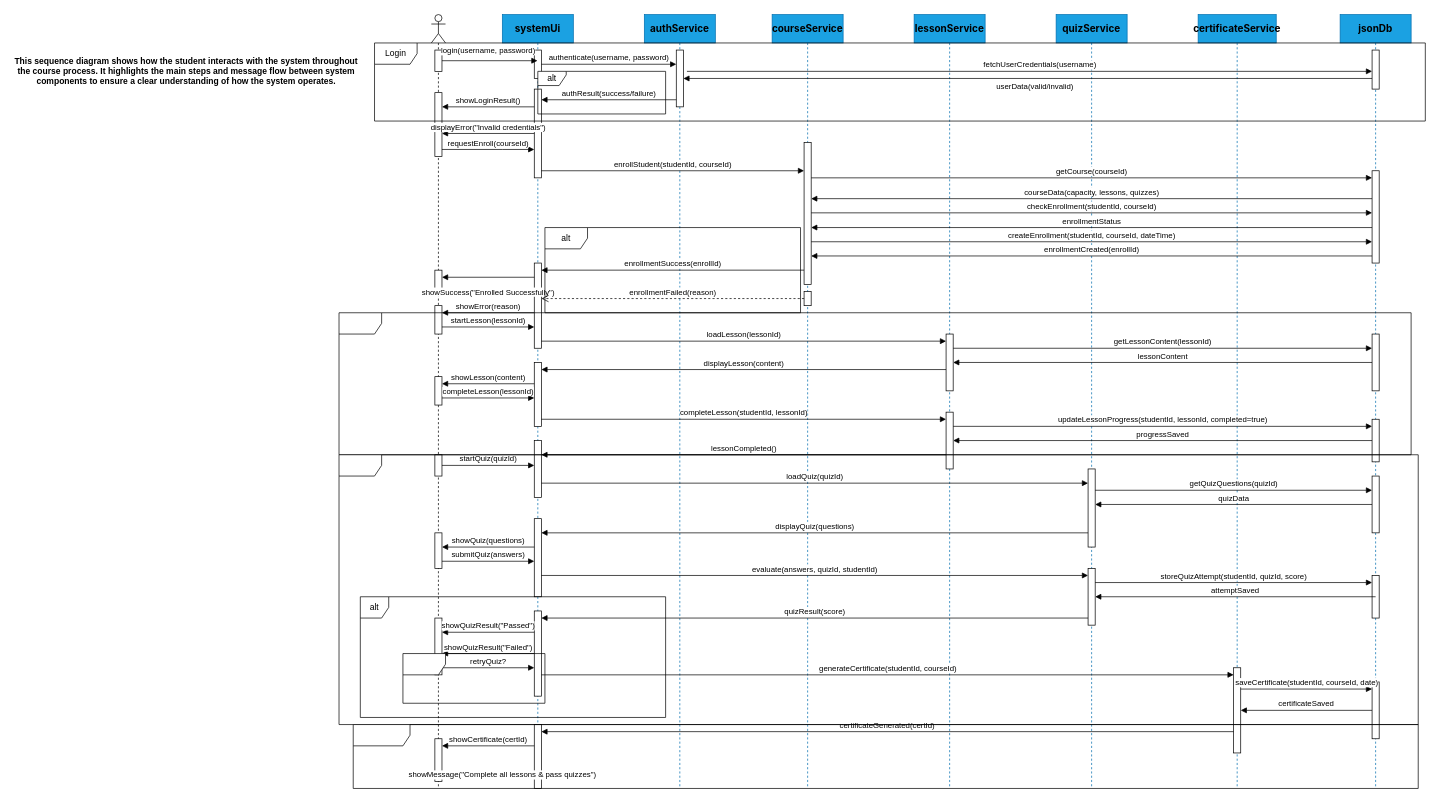
Some shapes in this 1438 by 801 pixel diagram are drawn without their labels. Here are the shapes that lost their labels. From the top down, the centre of each, then its label:
At (x=874, y=383): "Lesson".
At (x=878, y=589): "Quiz".
At (x=473, y=678): "Loop".
At (x=885, y=756): "Certificate".
